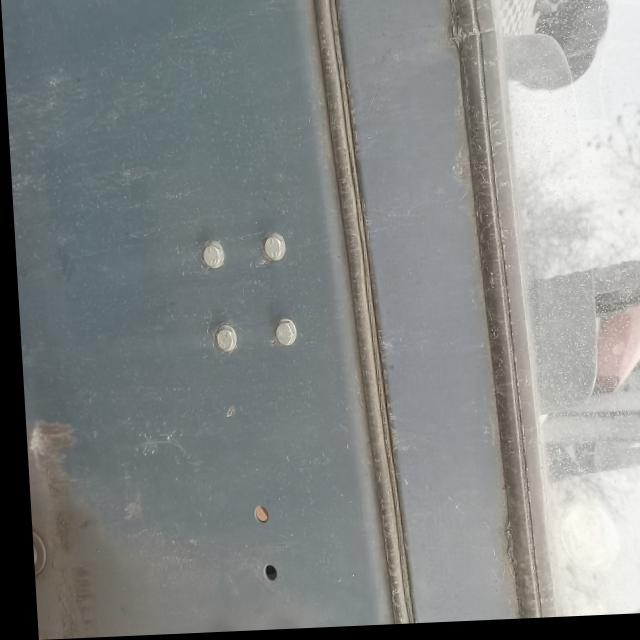Regular bolt: (271, 324, 292, 350), (200, 245, 220, 271), (261, 237, 280, 263), (213, 330, 232, 354)
